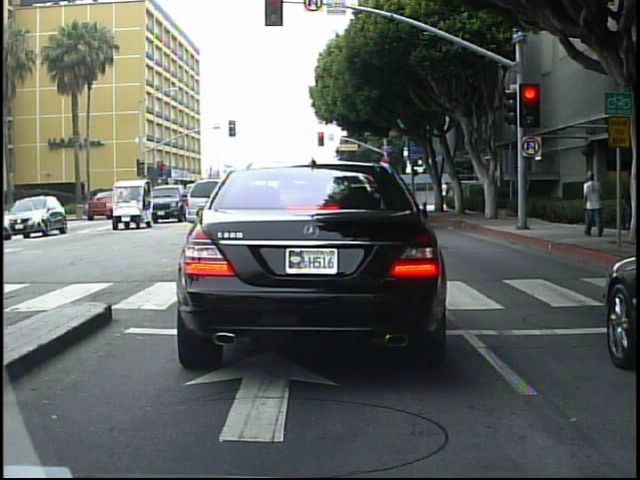person: (579, 163, 611, 241), (482, 176, 496, 218), (437, 179, 451, 212), (628, 165, 630, 251)
